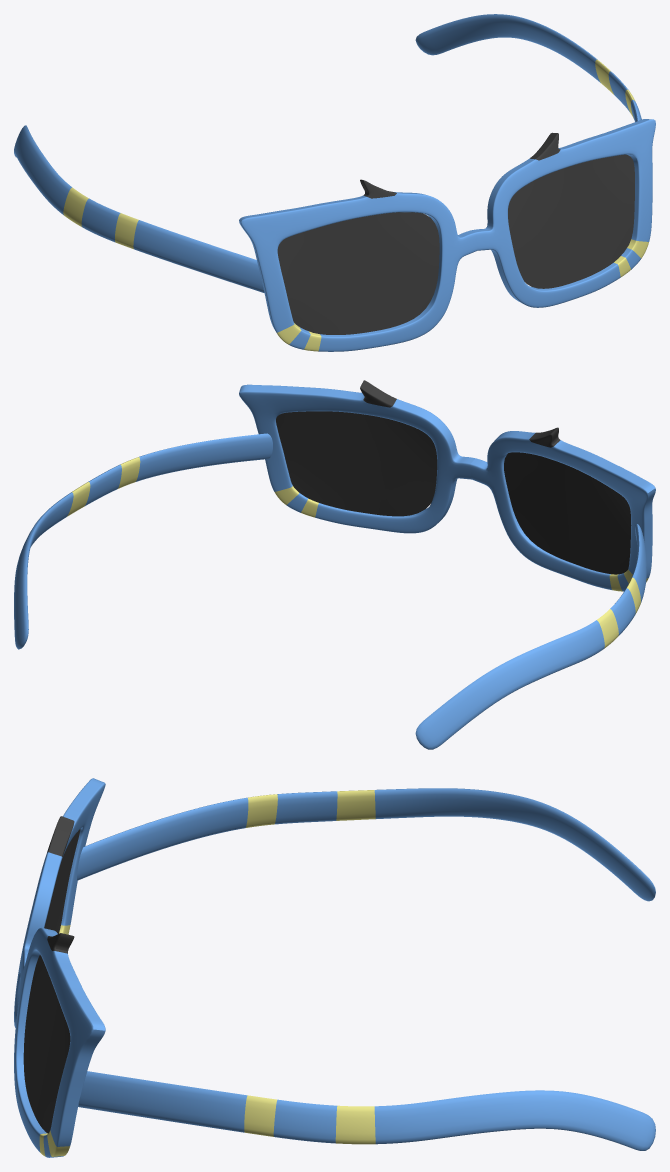
The model's file is Hornrim.gltf.
The picture shows the model from 3 angles, top to bottom: view 1: azimuth 30°, elevation 25°; view 2: azimuth 150°, elevation 25°; view 3: azimuth 270°, elevation 25°; orthographic projection. The views are drawn at different scales.
Parts seen in each view (by area): view 1: glasses2-PBR.1, glasses2-PBR (×2), glasses2-PBR.2; view 2: glasses2-PBR.1, glasses2-PBR (×2), glasses2-PBR.2; view 3: glasses2-PBR.1, glasses2-PBR (×2), glasses2-PBR.2.
Boxes of the visible parts, x1,y1,x2,y2 form: glasses2-PBR.1: (14, 14, 655, 351); glasses2-PBR (×2): (277, 132, 634, 334); glasses2-PBR.2: (63, 59, 648, 351); glasses2-PBR.1: (14, 384, 655, 749); glasses2-PBR (×2): (276, 380, 631, 574); glasses2-PBR.2: (67, 457, 648, 648); glasses2-PBR.1: (14, 778, 655, 1157); glasses2-PBR (×2): (23, 816, 80, 1133); glasses2-PBR.2: (39, 790, 375, 1156).
Size of the model in its own units: 7.53 by 2.07 by 6.25.
